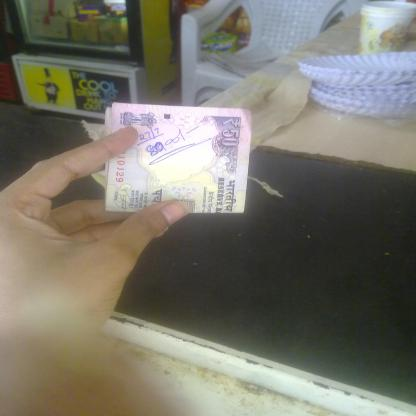Old50Front: (106, 102, 252, 214)
